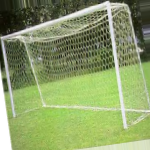goals: (1, 1, 150, 128)
